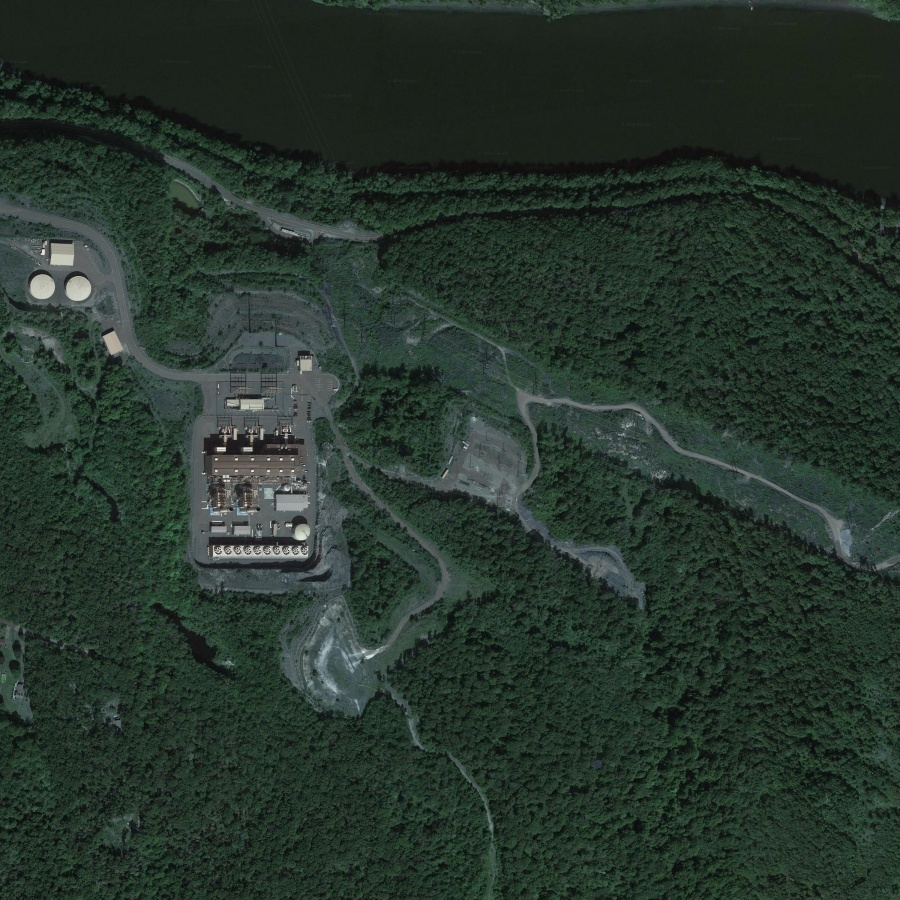PowerPlant: (195, 335, 341, 575)
